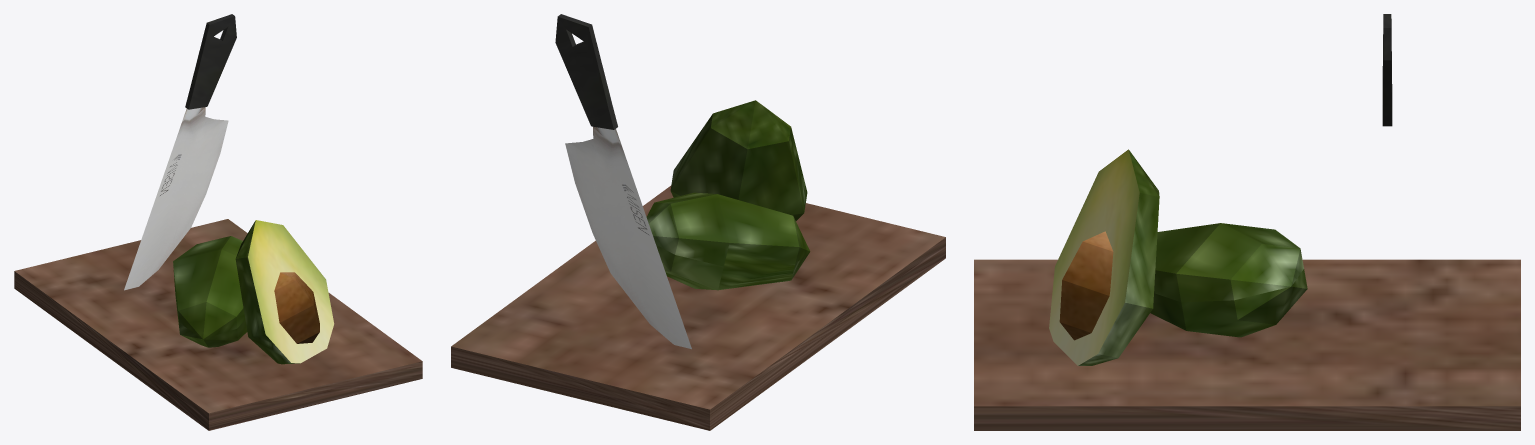
3 views of the same model, side by side, from view 1: azimuth 30°, elevation 25°; view 2: azimuth 150°, elevation 25°; view 3: azimuth 270°, elevation 25° (orthographic). The views are drawn at different scales.
Parts seen in each view (by area): view 1: Plane_2; view 2: Plane_2; view 3: Plane_2.
Part boxes in pixels (x1,y1,x2,y2): Plane_2: (14, 14, 422, 430); Plane_2: (451, 14, 945, 430); Plane_2: (974, 14, 1520, 430).
Size of the model in its own units: 5.26 by 6.26 by 8.29.
Materials: 5 (5 with a texture image).
